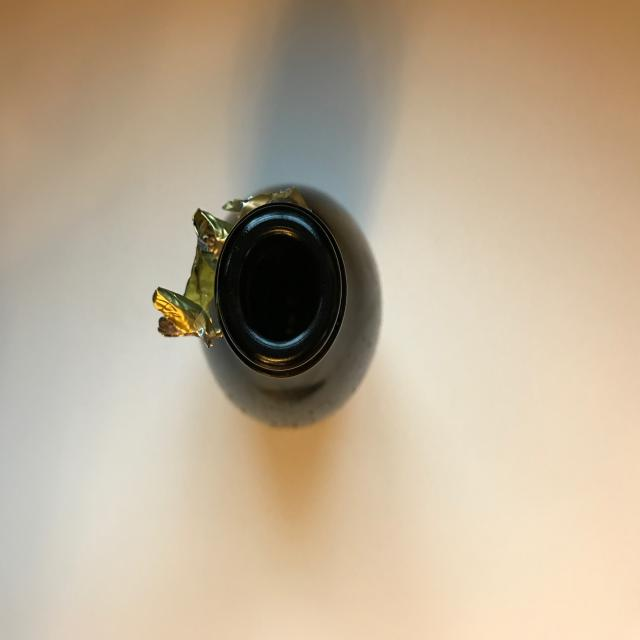glass: (153, 183, 384, 428)
